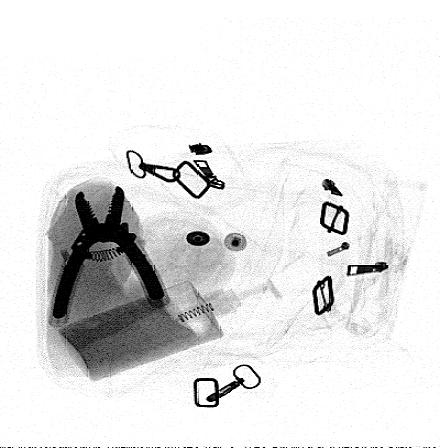Pliers: (52, 184, 169, 320)
